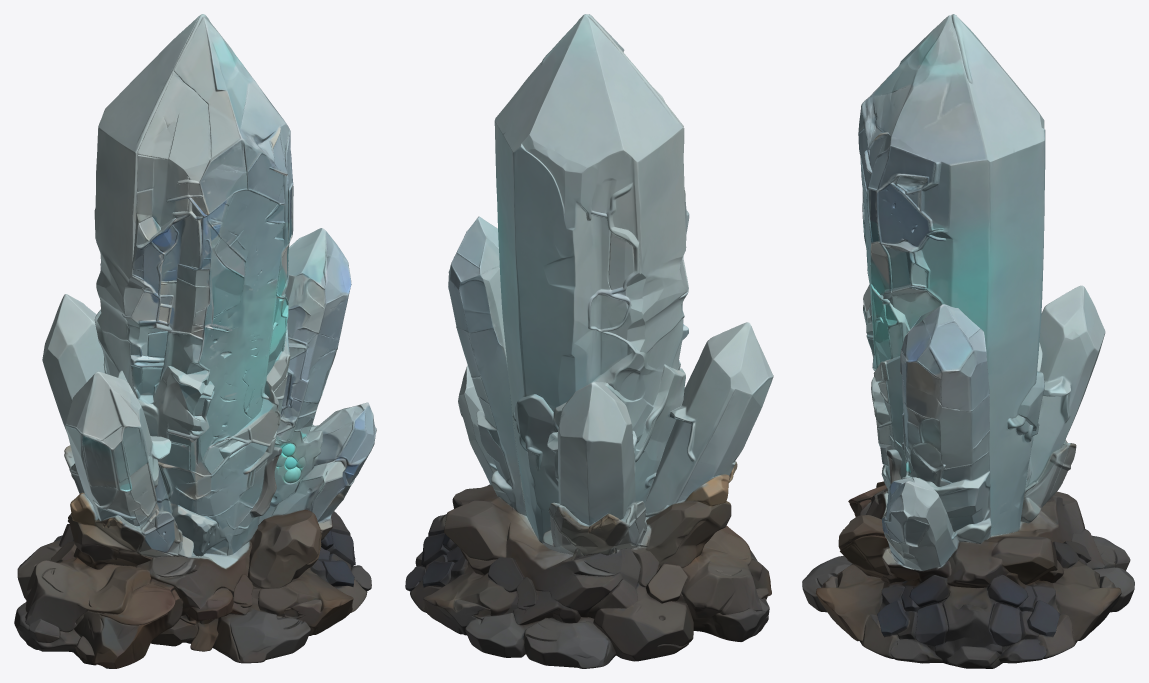
File: monolith.glb
The picture shows the model from 3 angles, left to right: view 1: azimuth 30°, elevation 25°; view 2: azimuth 150°, elevation 25°; view 3: azimuth 270°, elevation 25°; orthographic projection.
Visible parts, largest first — view 1: tripo_node_76dd13ea-3dc8-42d2-bf3f-67f37879135b; view 2: tripo_node_76dd13ea-3dc8-42d2-bf3f-67f37879135b; view 3: tripo_node_76dd13ea-3dc8-42d2-bf3f-67f37879135b.
Part boxes in pixels (bbox=[...]): tripo_node_76dd13ea-3dc8-42d2-bf3f-67f37879135b: bbox=[14, 14, 376, 668]; tripo_node_76dd13ea-3dc8-42d2-bf3f-67f37879135b: bbox=[405, 14, 773, 668]; tripo_node_76dd13ea-3dc8-42d2-bf3f-67f37879135b: bbox=[802, 14, 1134, 668].
Size of the model in its own units: 0.5851 by 0.9783 by 0.5077.
1 material, 1 textured.
